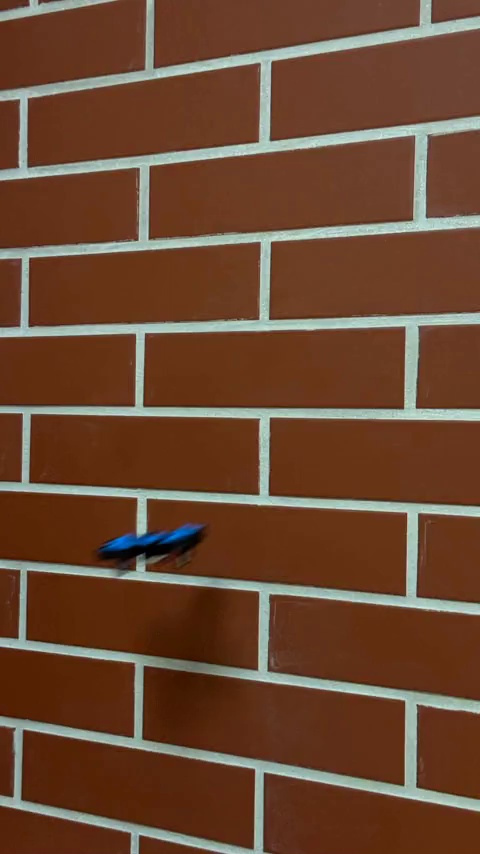drone: (99, 526, 207, 567)
